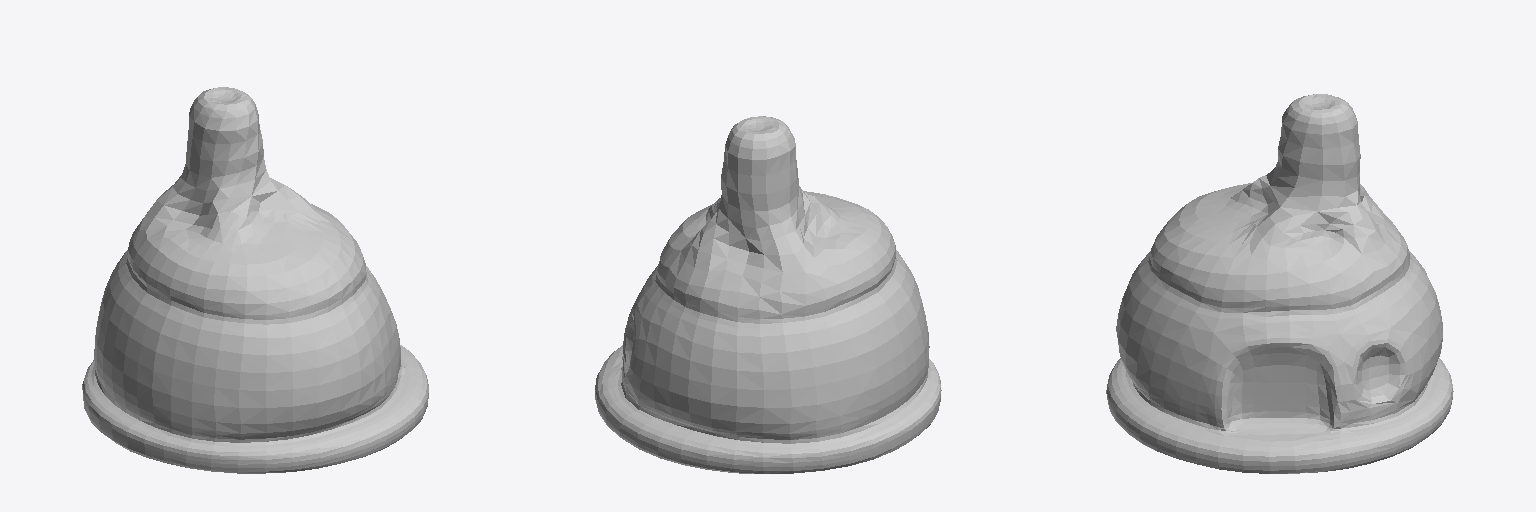
File: huthouse.OBJ
3 renders of one model, left to right at view 1: azimuth 30°, elevation 25°; view 2: azimuth 150°, elevation 25°; view 3: azimuth 270°, elevation 25°, orthographic.
Parts seen in each view (by area): view 1: Group41502; view 2: Group41502; view 3: Group41502.
Boxes of the visible parts, box(x1,y1,x2,y2) form: Group41502: box(82, 87, 428, 473); Group41502: box(595, 116, 941, 473); Group41502: box(1106, 94, 1453, 473).
Bounding box in the file's own units: 6.43 × 6.06 × 6.44.